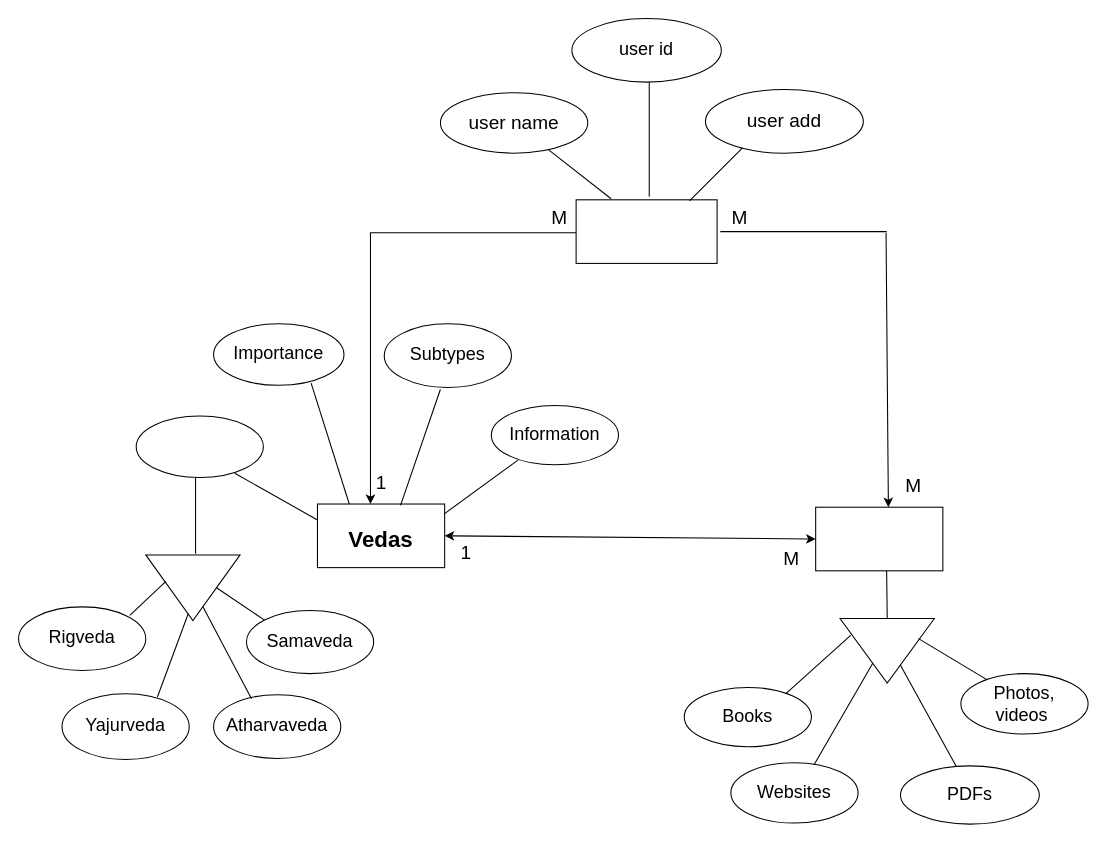
Some shapes in this 1107 by 843 pixel diagram are drawn without their labels. Each missing label, with the centre of its shape:
"are" goes at pixel 192 587.
"IS A" goes at pixel 886 650.
"Source" goes at pixel 879 538.
"Types" goes at pixel 199 446.
"User" goes at pixel 646 231.
